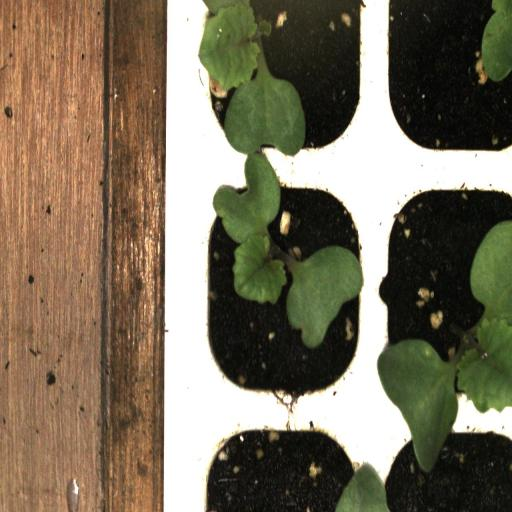Folha: (335, 466, 390, 512)
Germinacao: (191, 167, 370, 409), (371, 169, 512, 418), (190, 2, 370, 172)
